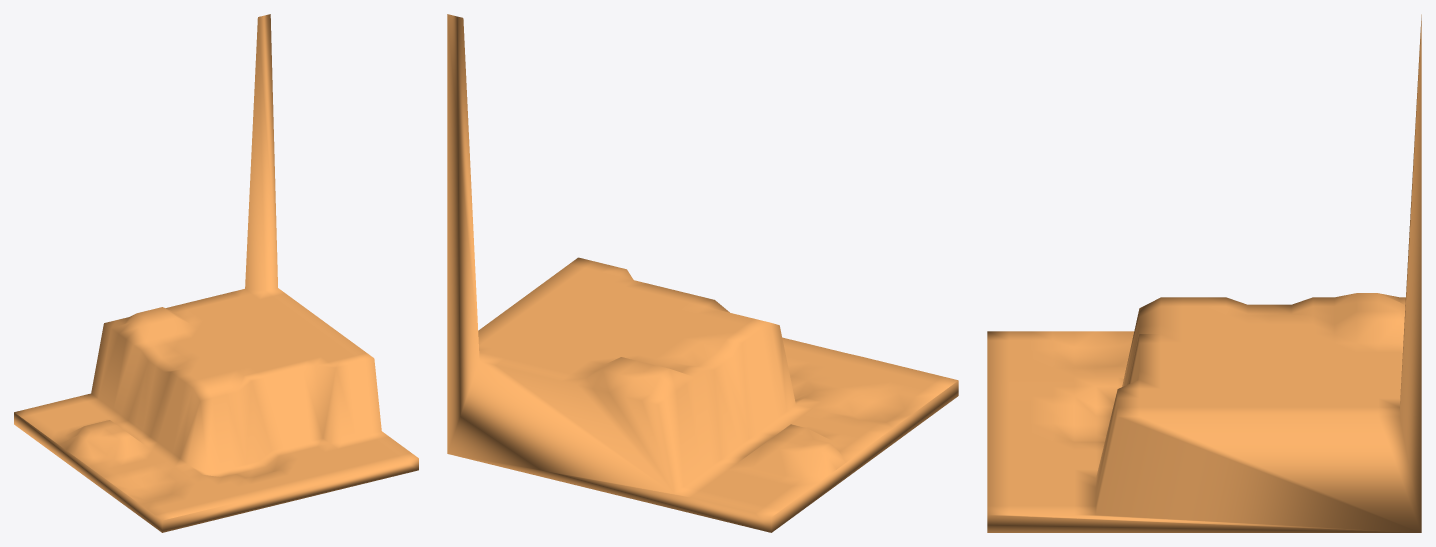
The model's file is RightTurnIn.fbx.
The picture shows the model from 3 angles, left to right: view 1: azimuth 30°, elevation 25°; view 2: azimuth 150°, elevation 25°; view 3: azimuth 270°, elevation 25°; orthographic projection. The views are drawn at different scales.
Parts seen in each view (by area): view 1: Group1; view 2: Group1; view 3: Group1.
Part boxes in pixels (box(x1,y1,x2,y2)): Group1: box(14, 14, 418, 532); Group1: box(447, 14, 958, 532); Group1: box(987, 14, 1421, 532).
Bounding box in the file's own units: 1000 × 1296 × 1000.
